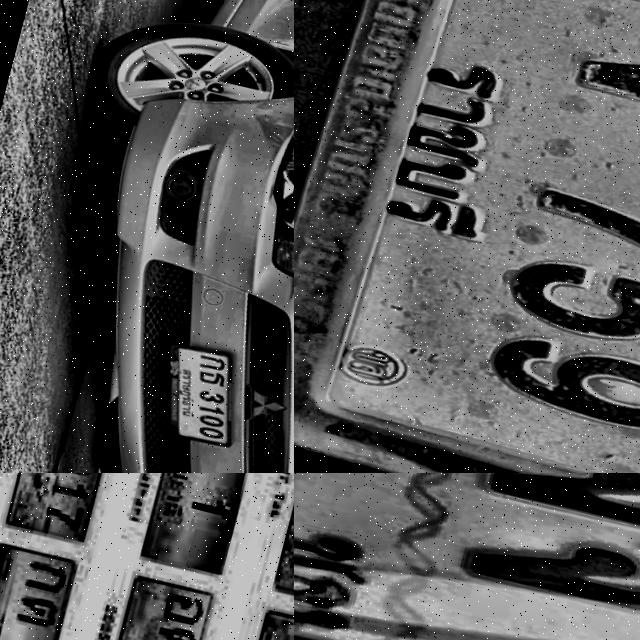license-plate: (294, 0, 640, 473), (294, 473, 640, 640), (135, 473, 273, 580), (144, 333, 260, 458), (2, 473, 136, 546), (81, 569, 217, 640), (0, 536, 83, 640)
